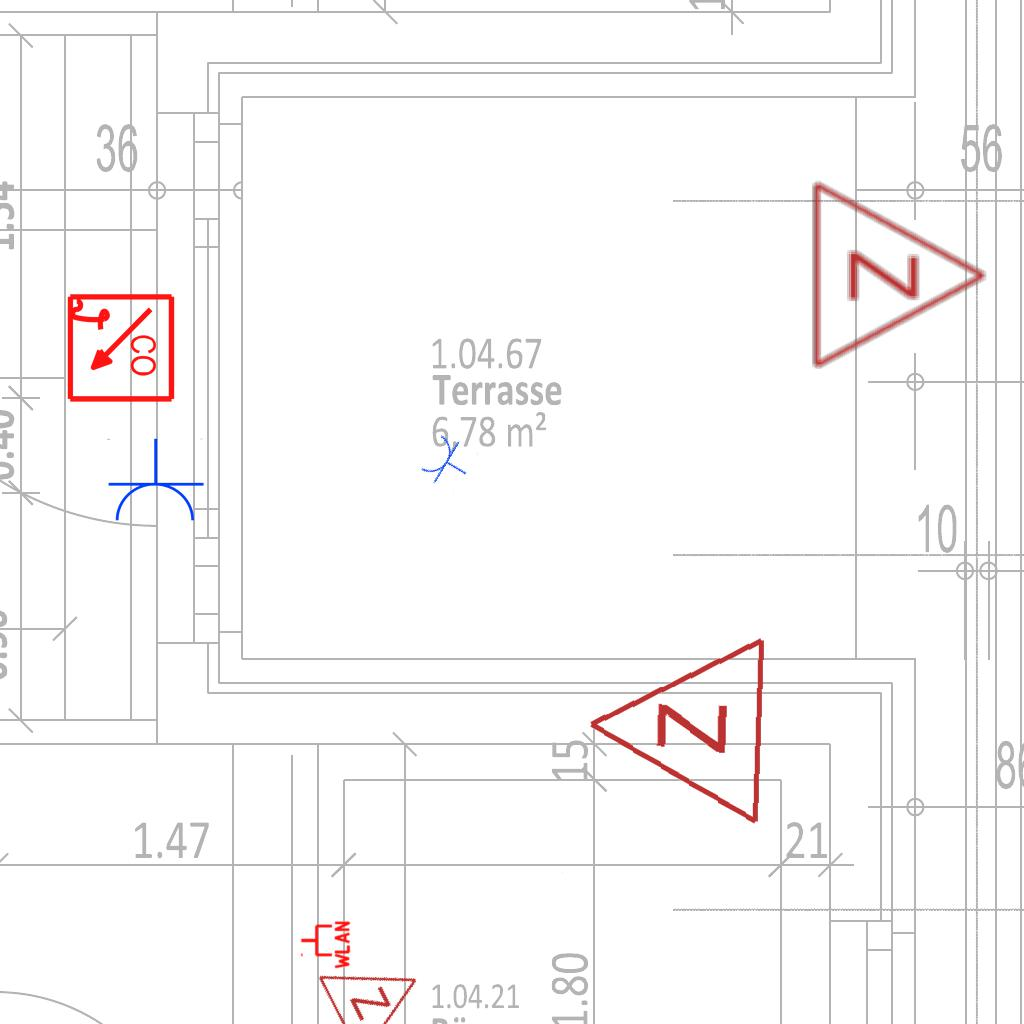ROA_Rauchmelder_optisch_mit_Signalgeber_(Sockelsirene): (63, 292, 176, 405)
Schukosteckdose_einfach: (105, 438, 205, 525), (416, 429, 480, 496)
WLAN: (299, 919, 351, 971)
Zimmersignalleuchte: (572, 628, 780, 832), (799, 175, 999, 371), (310, 931, 444, 1024)
